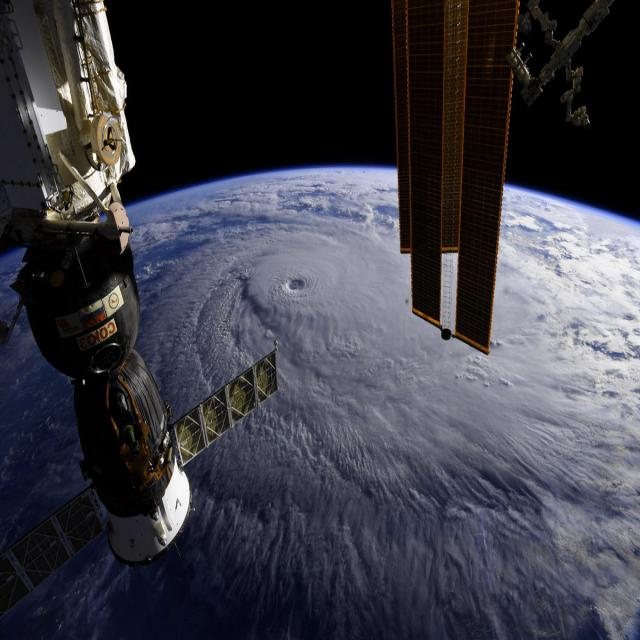satellite: (0, 0, 290, 592), (374, 0, 622, 379)
